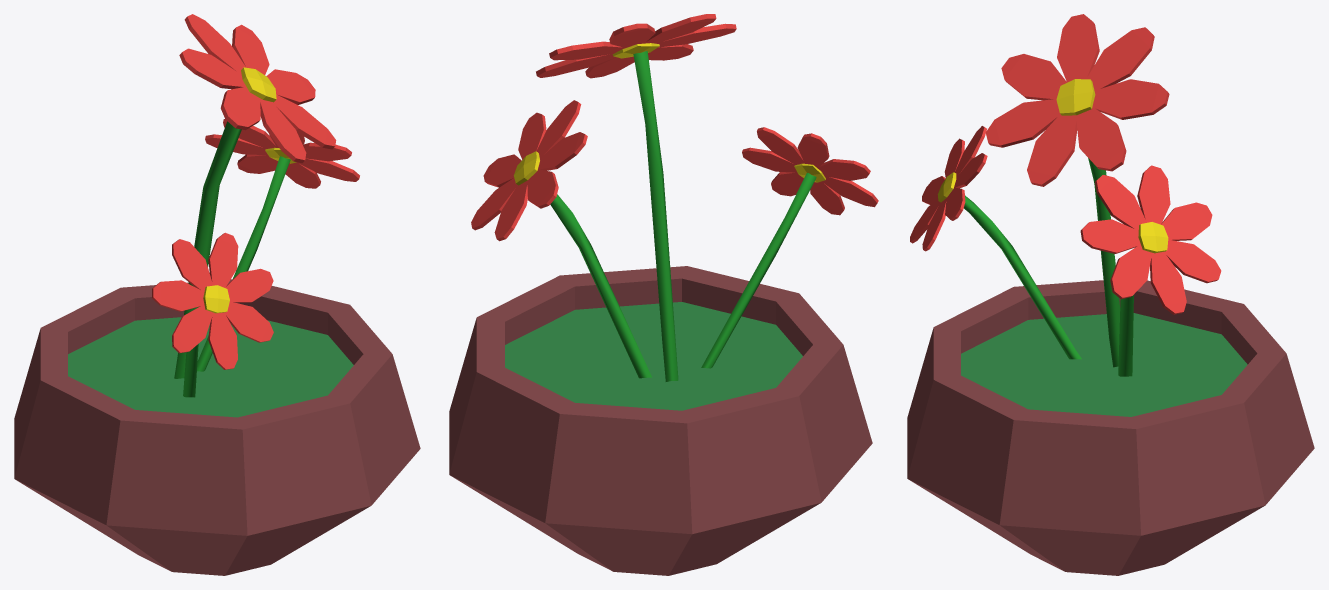
Rendered from Flower_Pot.fbx.
3 renders of one model, left to right at view 1: azimuth 30°, elevation 25°; view 2: azimuth 150°, elevation 25°; view 3: azimuth 270°, elevation 25°, orthographic. The views are drawn at different scales.
Visible parts, largest first — view 1: Flower Pot; view 2: Flower Pot; view 3: Flower Pot.
Boxes of the visible parts, bbox=[...] form: Flower Pot: bbox=[14, 14, 420, 575]; Flower Pot: bbox=[449, 14, 878, 575]; Flower Pot: bbox=[907, 14, 1314, 575].
Bounding box in the file's own units: 0.5733 × 0.7865 × 0.5646.
